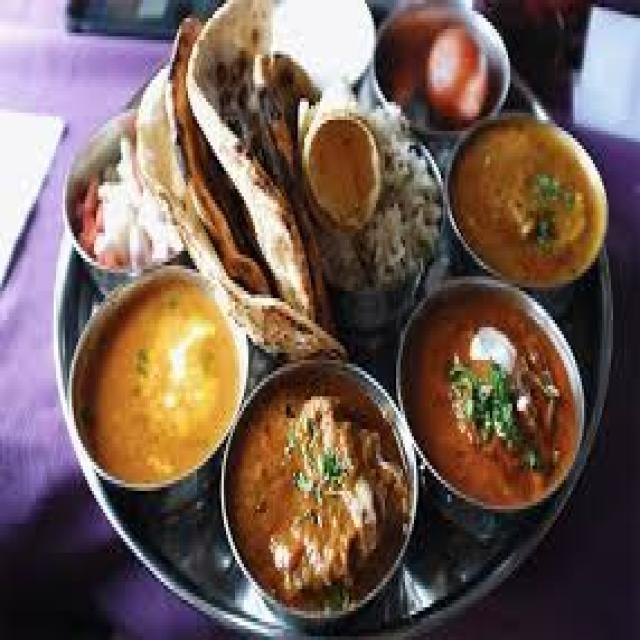dal: (223, 364, 417, 612), (64, 258, 250, 512)
sweet: (286, 79, 421, 287)
veg-fry: (439, 110, 600, 301), (379, 3, 507, 139)
